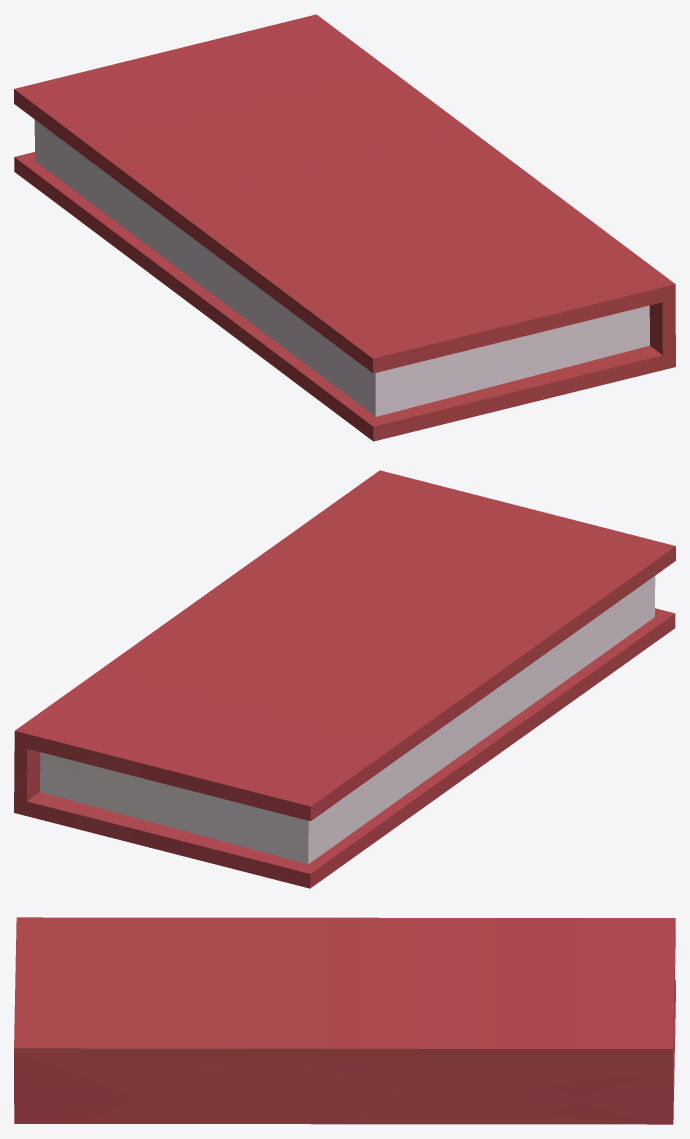
Rendered from book6.fbx.
3 renders of one model, top to bottom at view 1: azimuth 30°, elevation 25°; view 2: azimuth 150°, elevation 25°; view 3: azimuth 270°, elevation 25°, orthographic. The views are drawn at different scales.
Visible parts, largest first — view 1: Cube.020; view 2: Cube.020; view 3: Cube.020.
Boxes of the visible parts, box(x1,y1,x2,y2) form: Cube.020: box(14, 14, 675, 441); Cube.020: box(14, 470, 675, 888); Cube.020: box(14, 917, 675, 1124).
Bounding box in the file's own units: 35.44 × 9.61 × 73.19.
